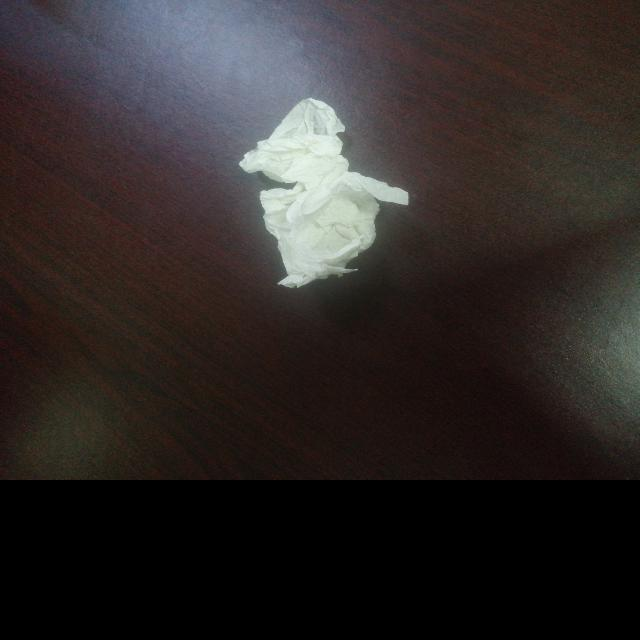kitchen paper: (238, 94, 418, 296)
